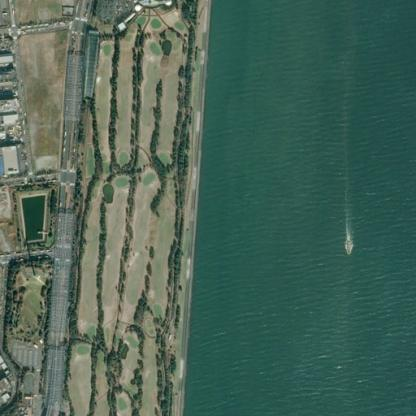ship: (336, 230, 360, 262)
